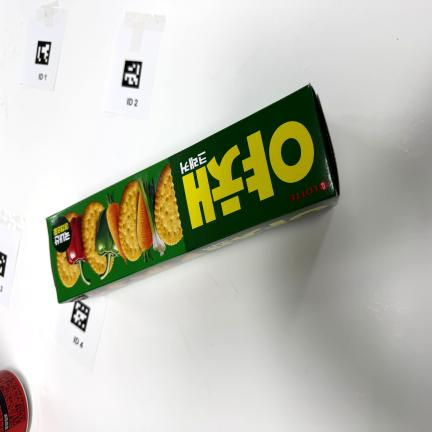cracker_vege: (46, 85, 339, 303)
